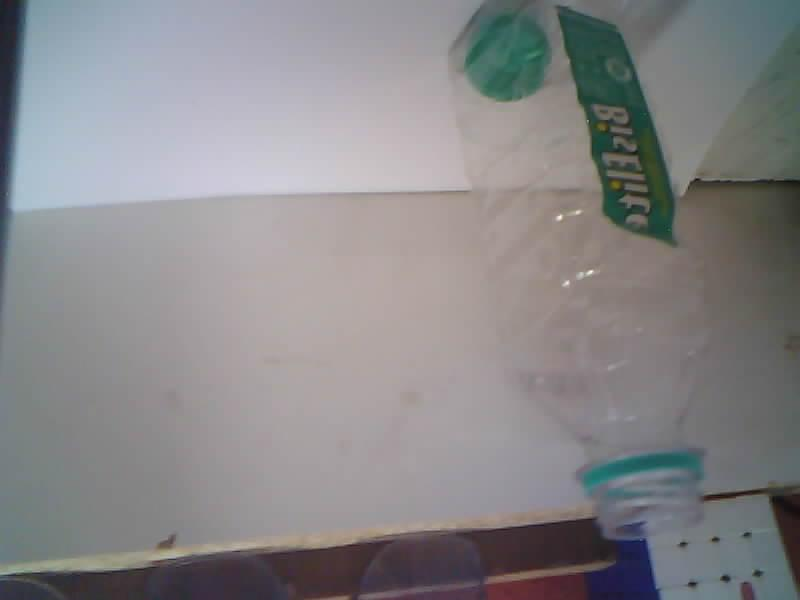non-biodegradable: (451, 1, 706, 538)
